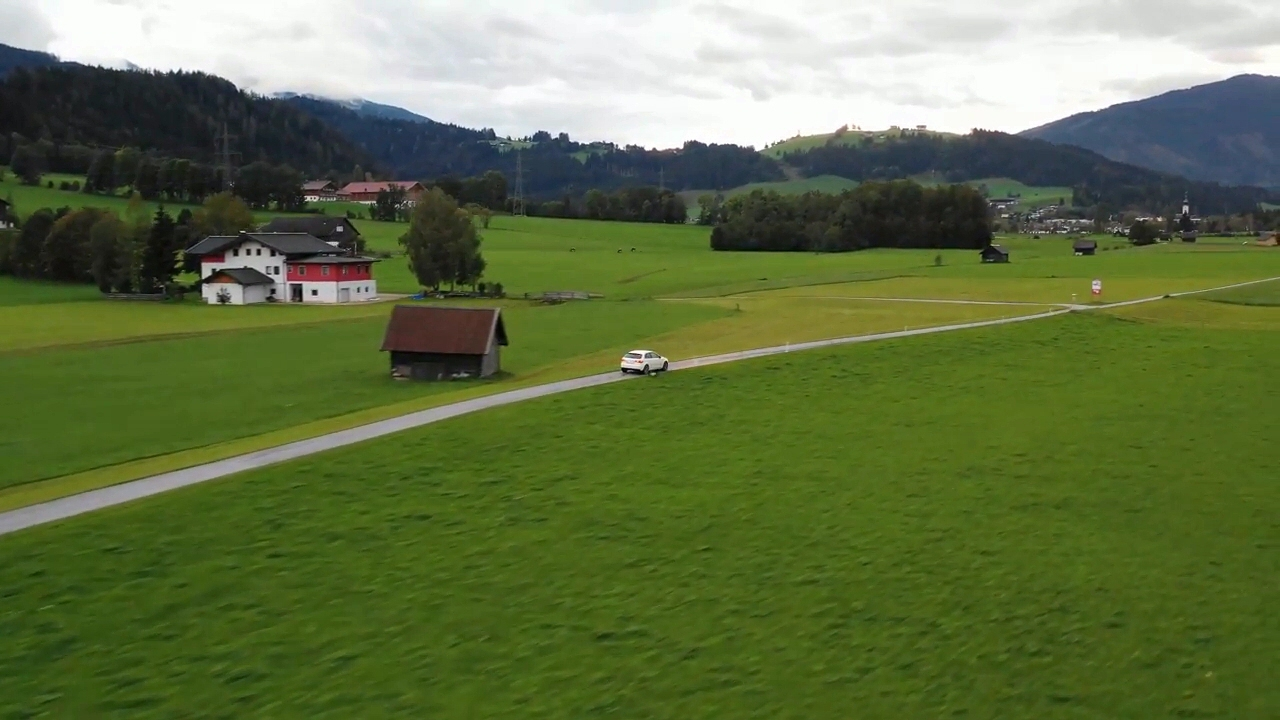araba: (622, 348, 671, 378)
